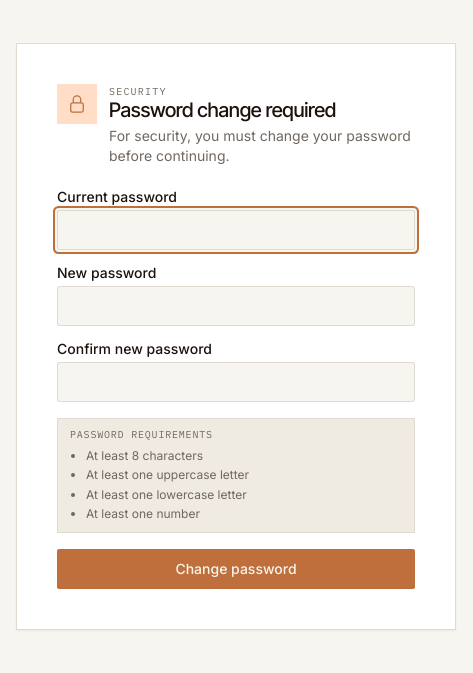
ChangePasswordForm › shows minimum length error on submit
Type "Old" into the password field labelled "Current password" at (236,230), box [57,210,415,250]
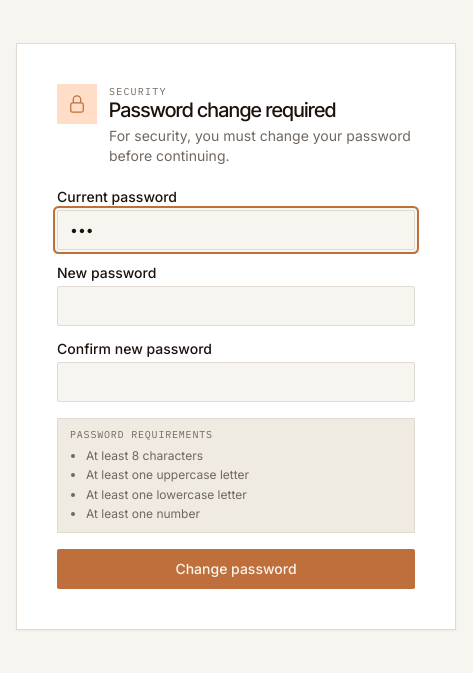
Type "Short" into the password field labelled "New password" at (236,306), box [57,286,415,326]
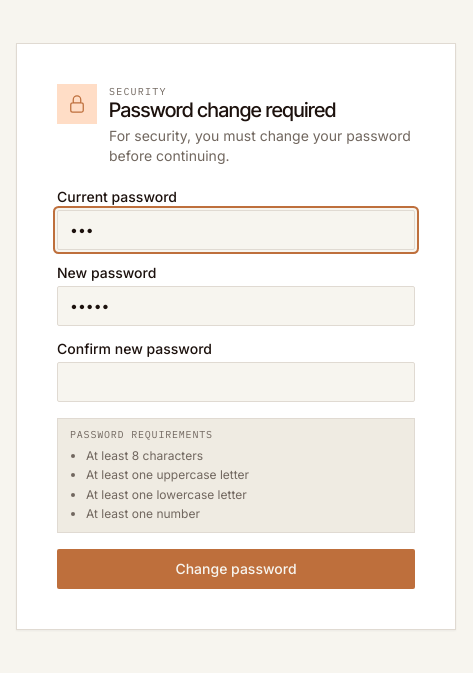
Type "Short" into the password field labelled "Confirm new password" at (236,382), box [57,362,415,402]
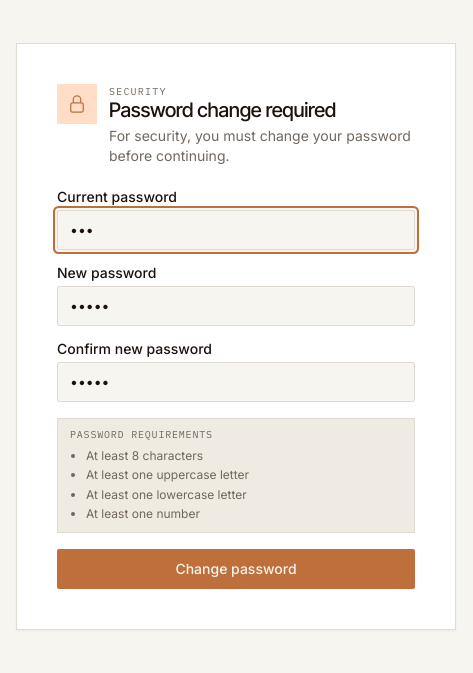
Submit the form labelled "Current password", box [57,190,415,588]
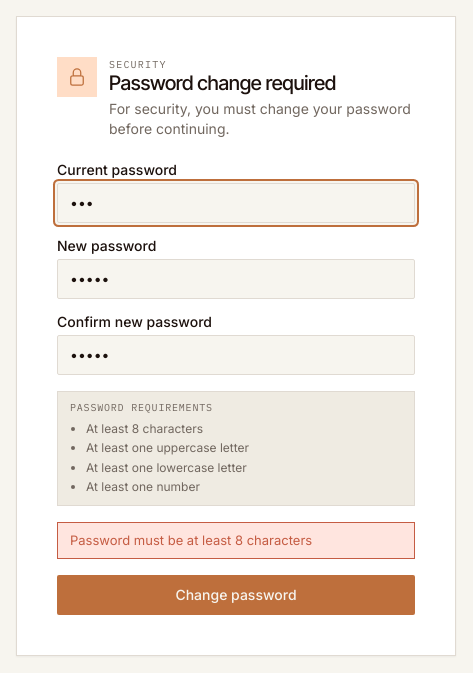
expect the text "Password must be at least 8 characters" is shown: met, box [57,522,415,559]
